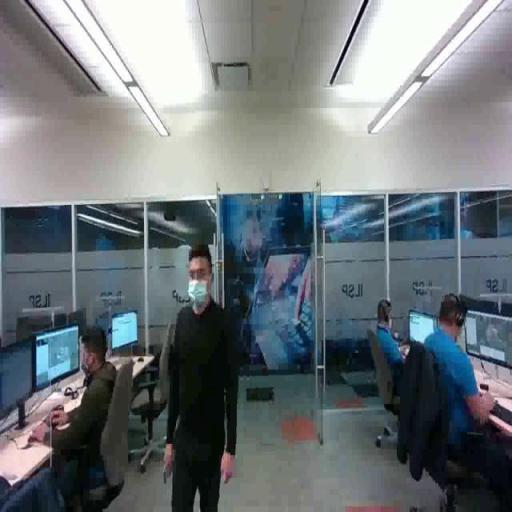person: (403, 289, 512, 496), (159, 246, 242, 512), (27, 319, 132, 512), (365, 296, 422, 435)
